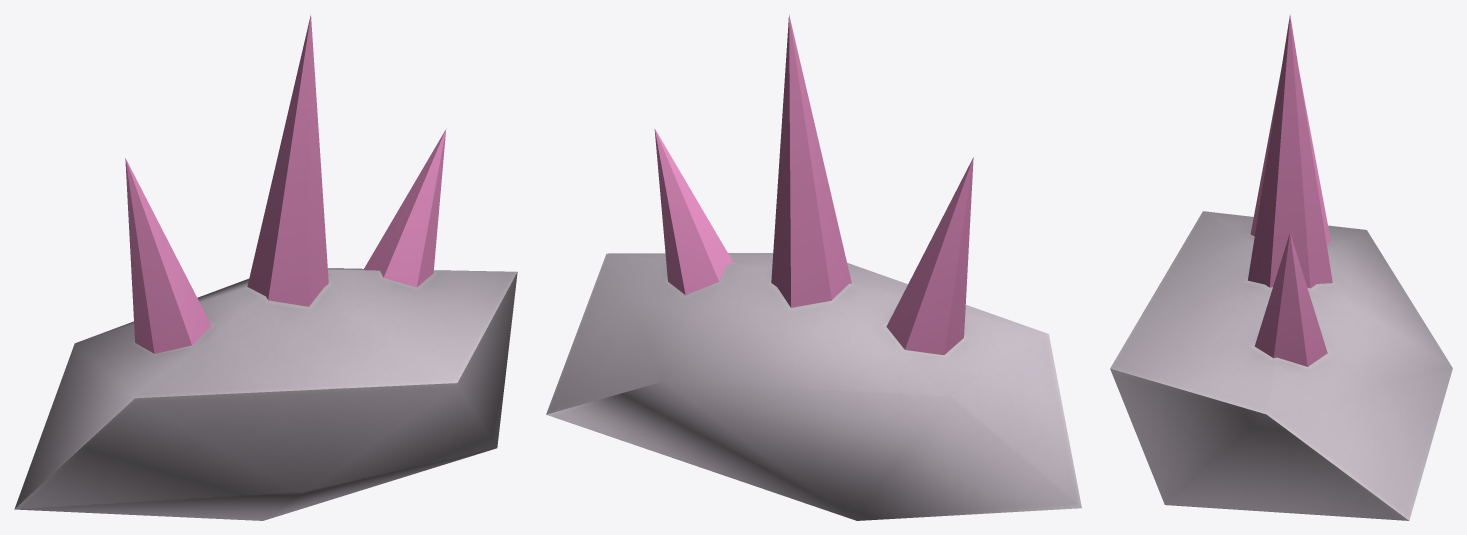
Rendered from hs_obstacle_crystal.fbx.
3 views of the same model, side by side, from view 1: azimuth 30°, elevation 25°; view 2: azimuth 150°, elevation 25°; view 3: azimuth 270°, elevation 25° (orthographic). The views are drawn at different scales.
Parts seen in each view (by area): view 1: hs_obstacle_crystal; view 2: hs_obstacle_crystal; view 3: hs_obstacle_crystal.
Part boxes in pixels (bbox=[...]): hs_obstacle_crystal: bbox=[14, 15, 517, 520]; hs_obstacle_crystal: bbox=[546, 14, 1081, 520]; hs_obstacle_crystal: bbox=[1110, 14, 1452, 520].
Size of the model in its own units: 2.18 by 2.06 by 1.29.
Materials: 2 (2 with a texture image).
